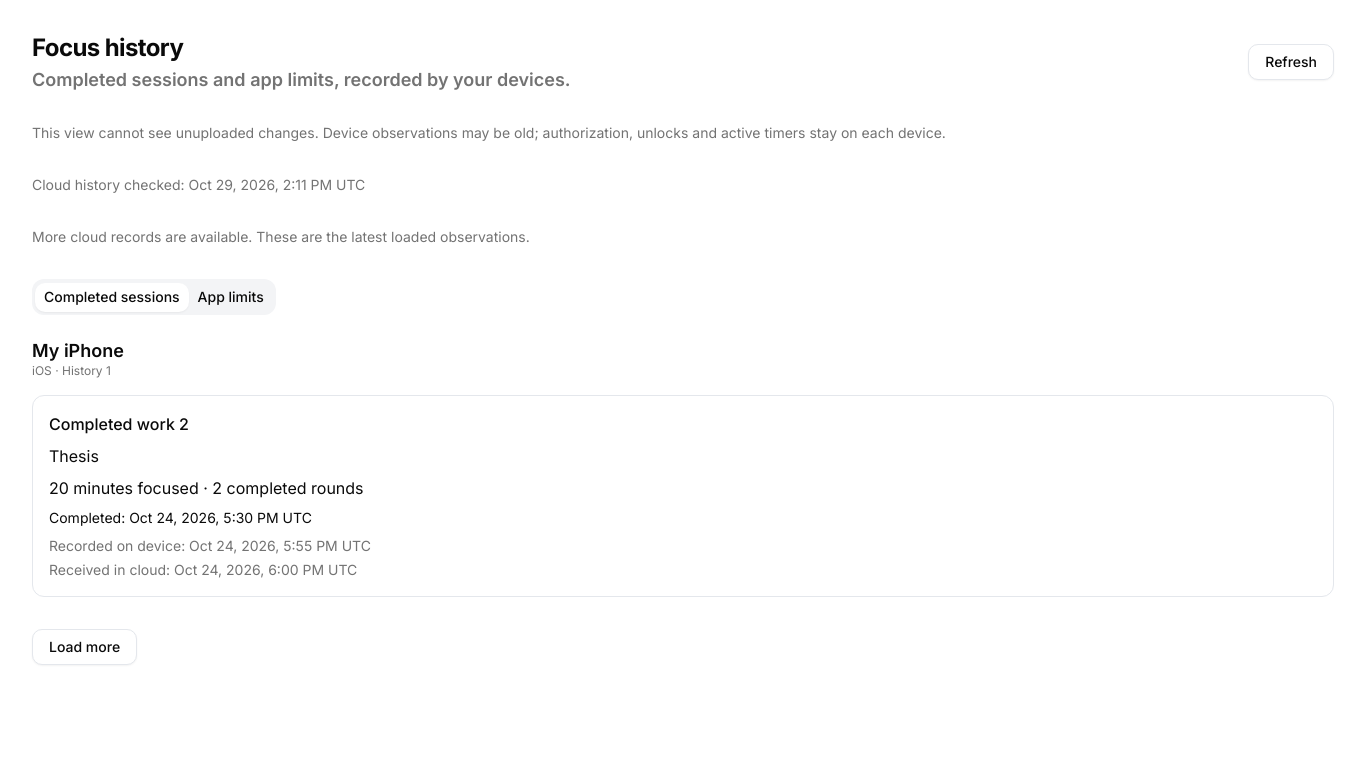
Test case: keeps confirmed rows on a failed next page, retries that page and deduplicates replayed records
Expected: the heading "Completed work 2" is shown, [49,414,189,434]
Expected: the text "More cloud records are available" is shown, [32,228,530,245]
Click the button "Load more": (85, 647) [32,629,137,665]
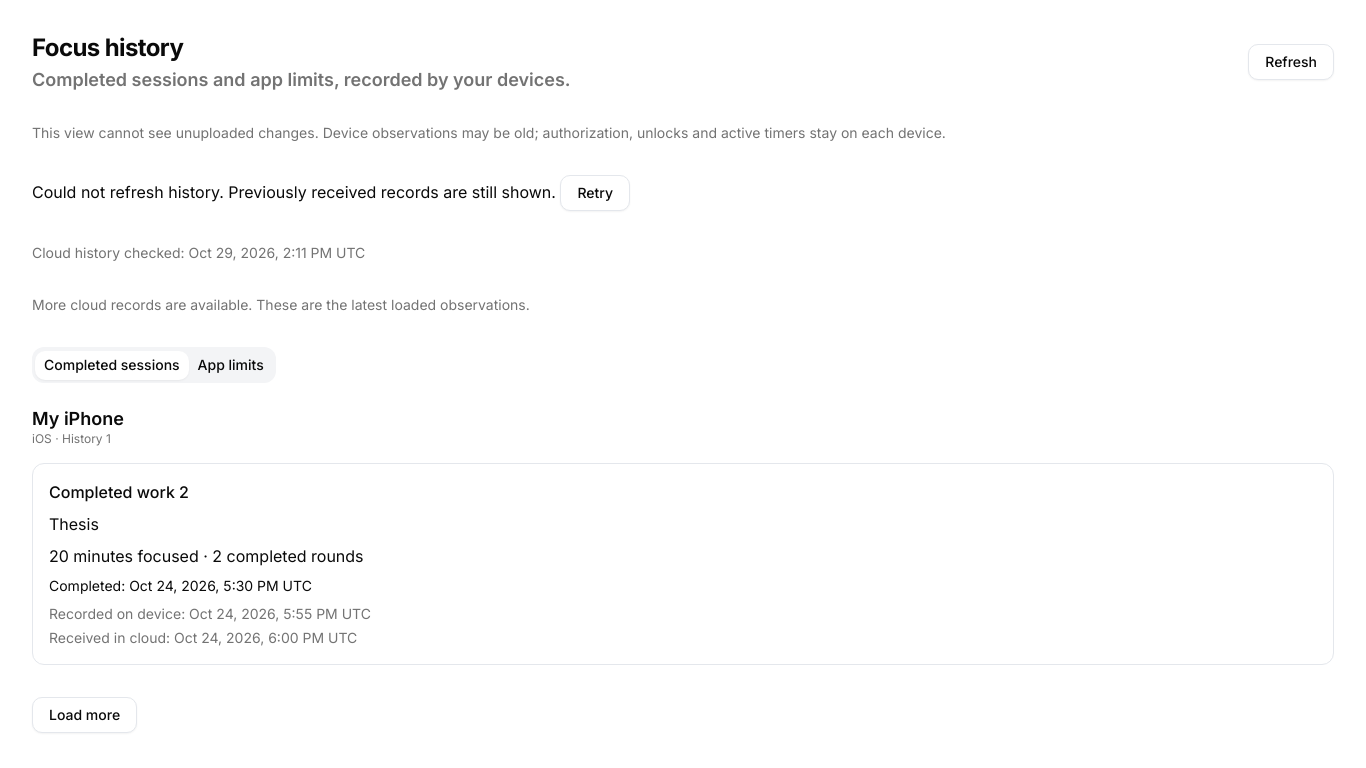
Expected: the heading "Completed work 2" is shown, [49,482,189,502]
Expected: the message shows "Could not refresh history", [32,182,556,202]
Click the button "Retry": (595, 193) [560,175,630,211]
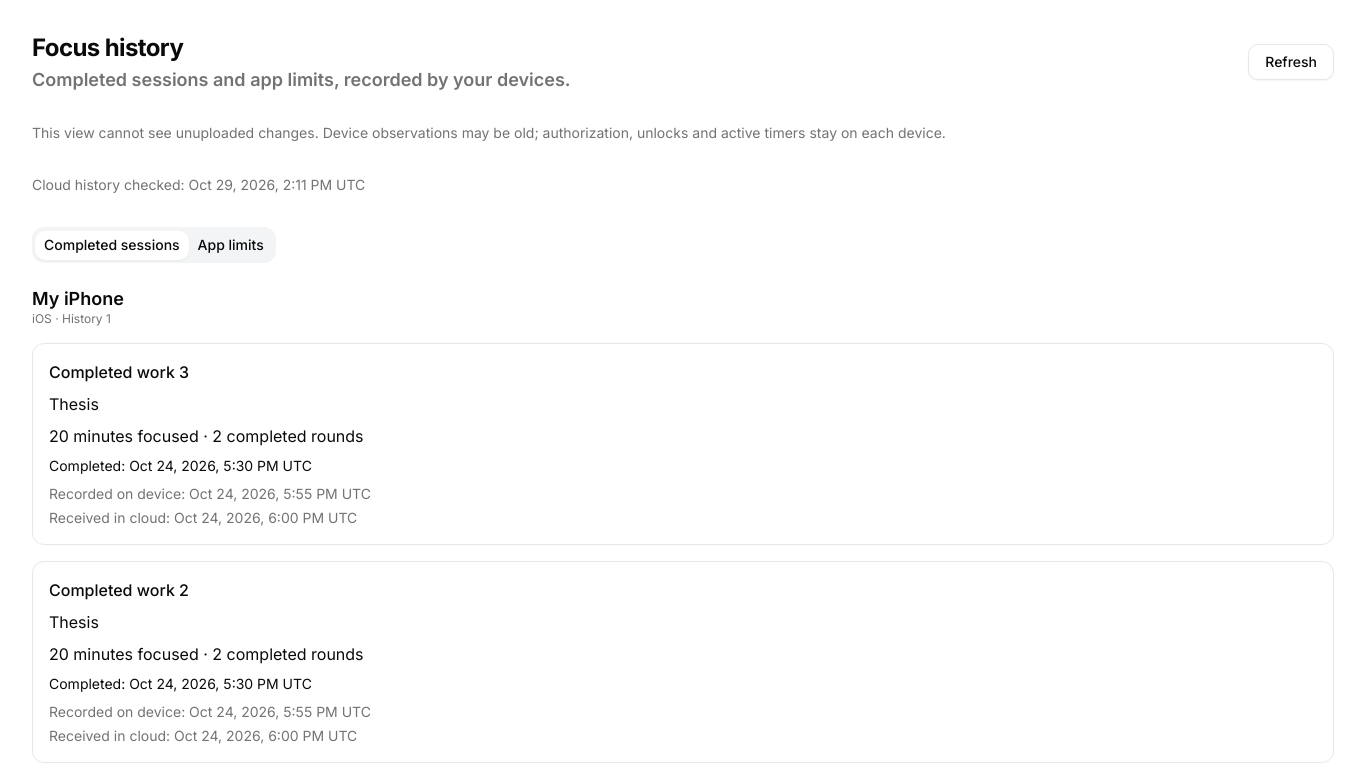
Expected: the heading "Completed work 3" is shown, [49,362,189,382]
Expected: the number of headings "Completed work 2" is 1, [49,580,189,600]
Expected: the button "Load more" is gone
